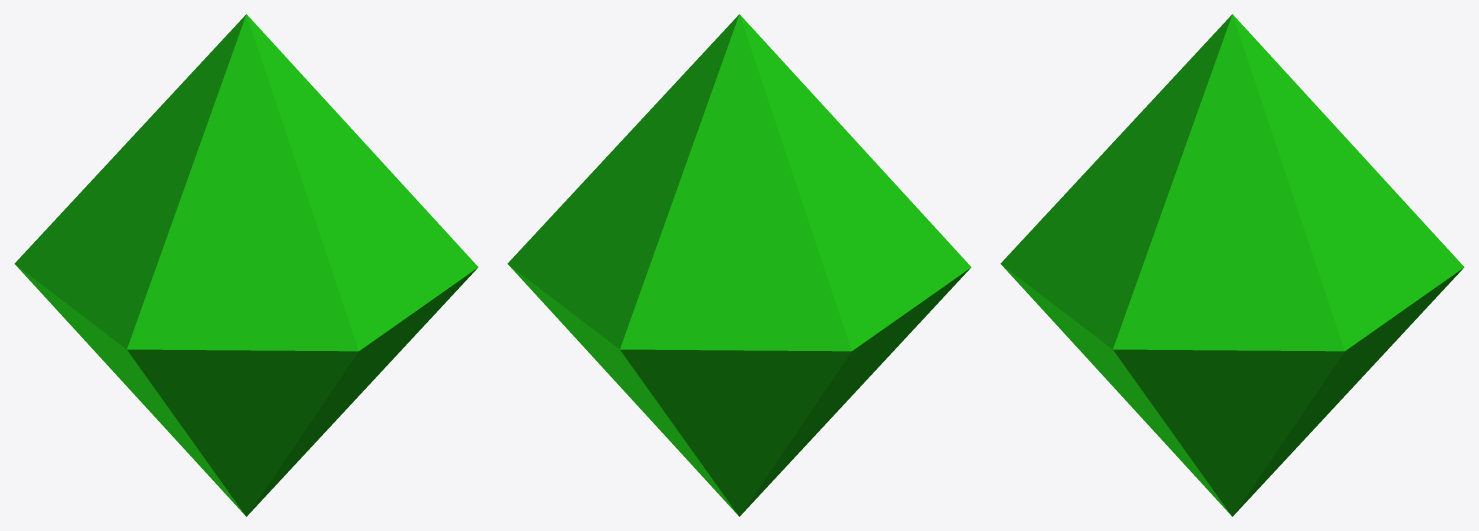
Rendered from Thumbs_Up.glb.
3 renders of one model, left to right at view 1: azimuth 30°, elevation 25°; view 2: azimuth 150°, elevation 25°; view 3: azimuth 270°, elevation 25°, orthographic.
Visible parts, largest first — view 1: Object_120.001; view 2: Object_120.001; view 3: Object_120.001.
Part boxes in pixels (x1,y1,x2,y2): Object_120.001: (14, 14, 478, 516); Object_120.001: (507, 14, 971, 516); Object_120.001: (1000, 14, 1464, 516).
Size of the model in its own units: 12 by 16.4 by 13.71.
